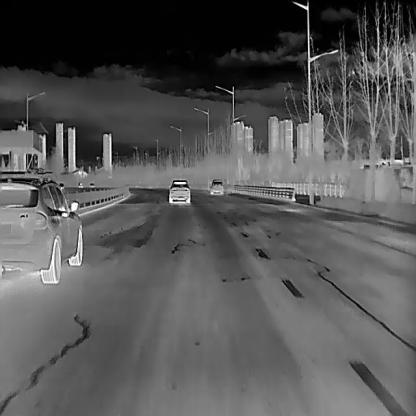car: (0, 176, 81, 283), (168, 177, 190, 204), (209, 178, 223, 194), (87, 180, 94, 187), (58, 181, 64, 189), (77, 181, 83, 188)
